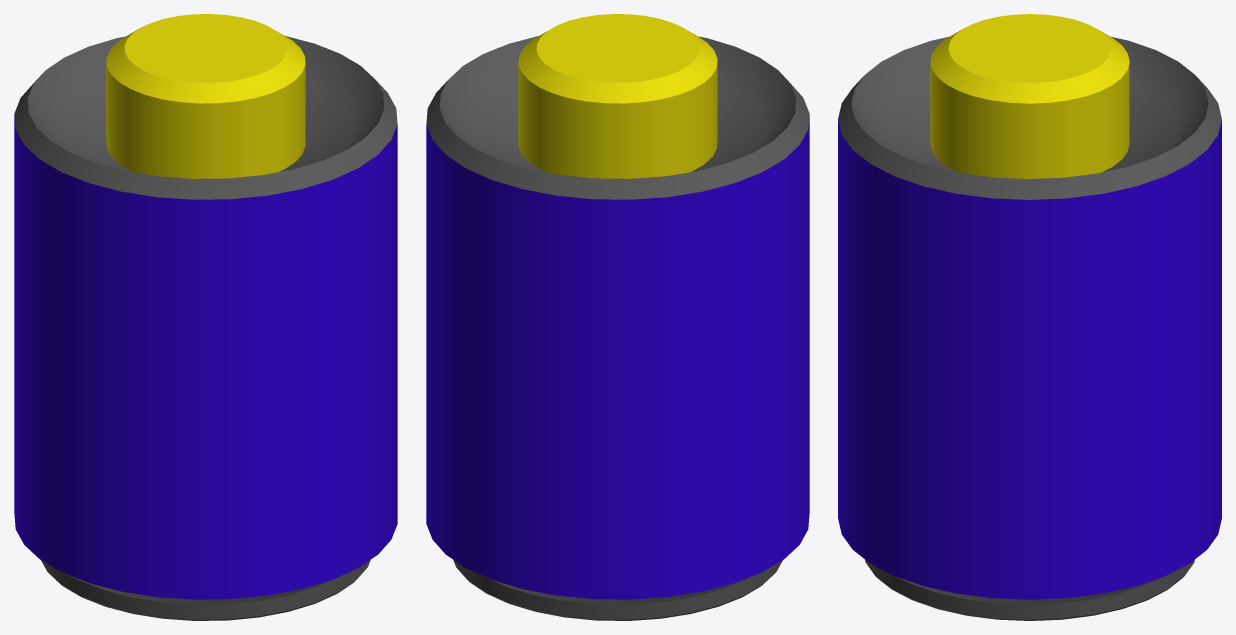
Rendered from BatteryPickUp.fbx.
3 views of the same model, side by side, from view 1: azimuth 30°, elevation 25°; view 2: azimuth 150°, elevation 25°; view 3: azimuth 270°, elevation 25° (orthographic).
Visible parts, largest first — view 1: BatteryPickUp; view 2: BatteryPickUp; view 3: BatteryPickUp.
Part boxes in pixels (left/top/right/bottom): BatteryPickUp: left=14, top=14, right=397, bottom=620; BatteryPickUp: left=426, top=14, right=809, bottom=620; BatteryPickUp: left=838, top=14, right=1221, bottom=620.
Size of the model in its own units: 508 by 508 by 734.
